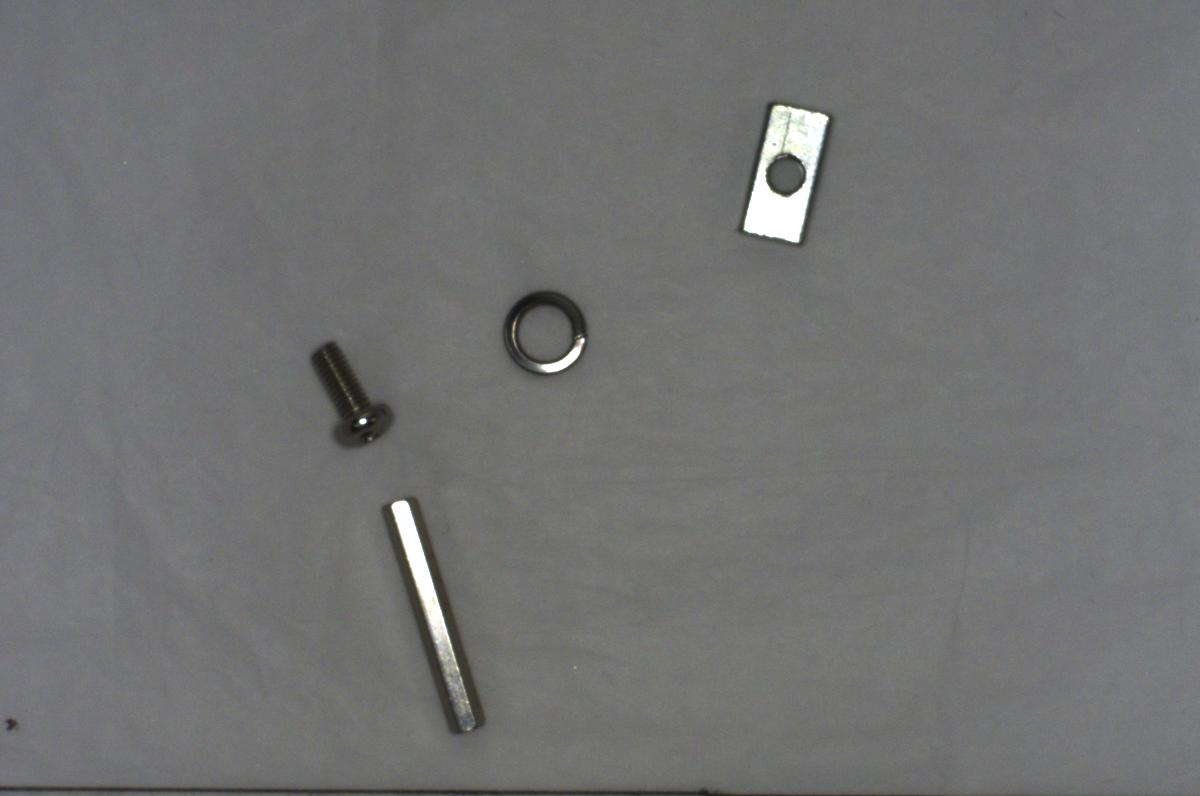Double hexagonal column: (377, 488, 486, 742)
Rectangular nut: (731, 95, 835, 246)
Round head screw: (301, 333, 407, 456)
Spring washer: (498, 287, 597, 378)
